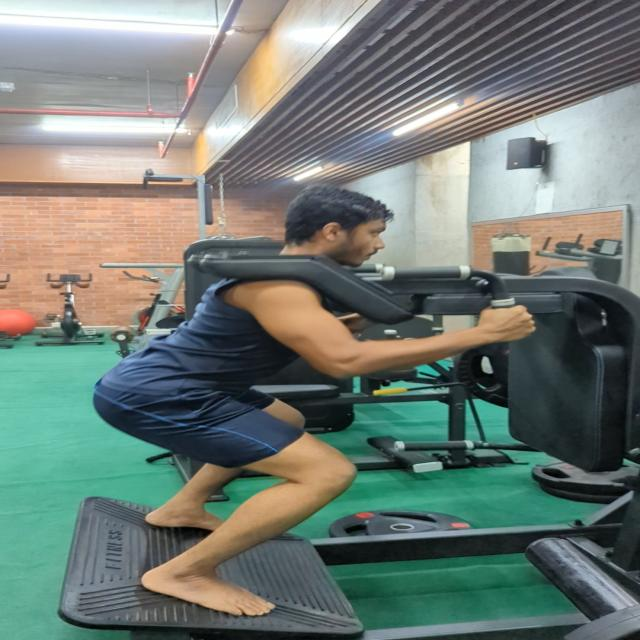Normal_SquatsWithBarbell: (91, 180, 535, 633)
